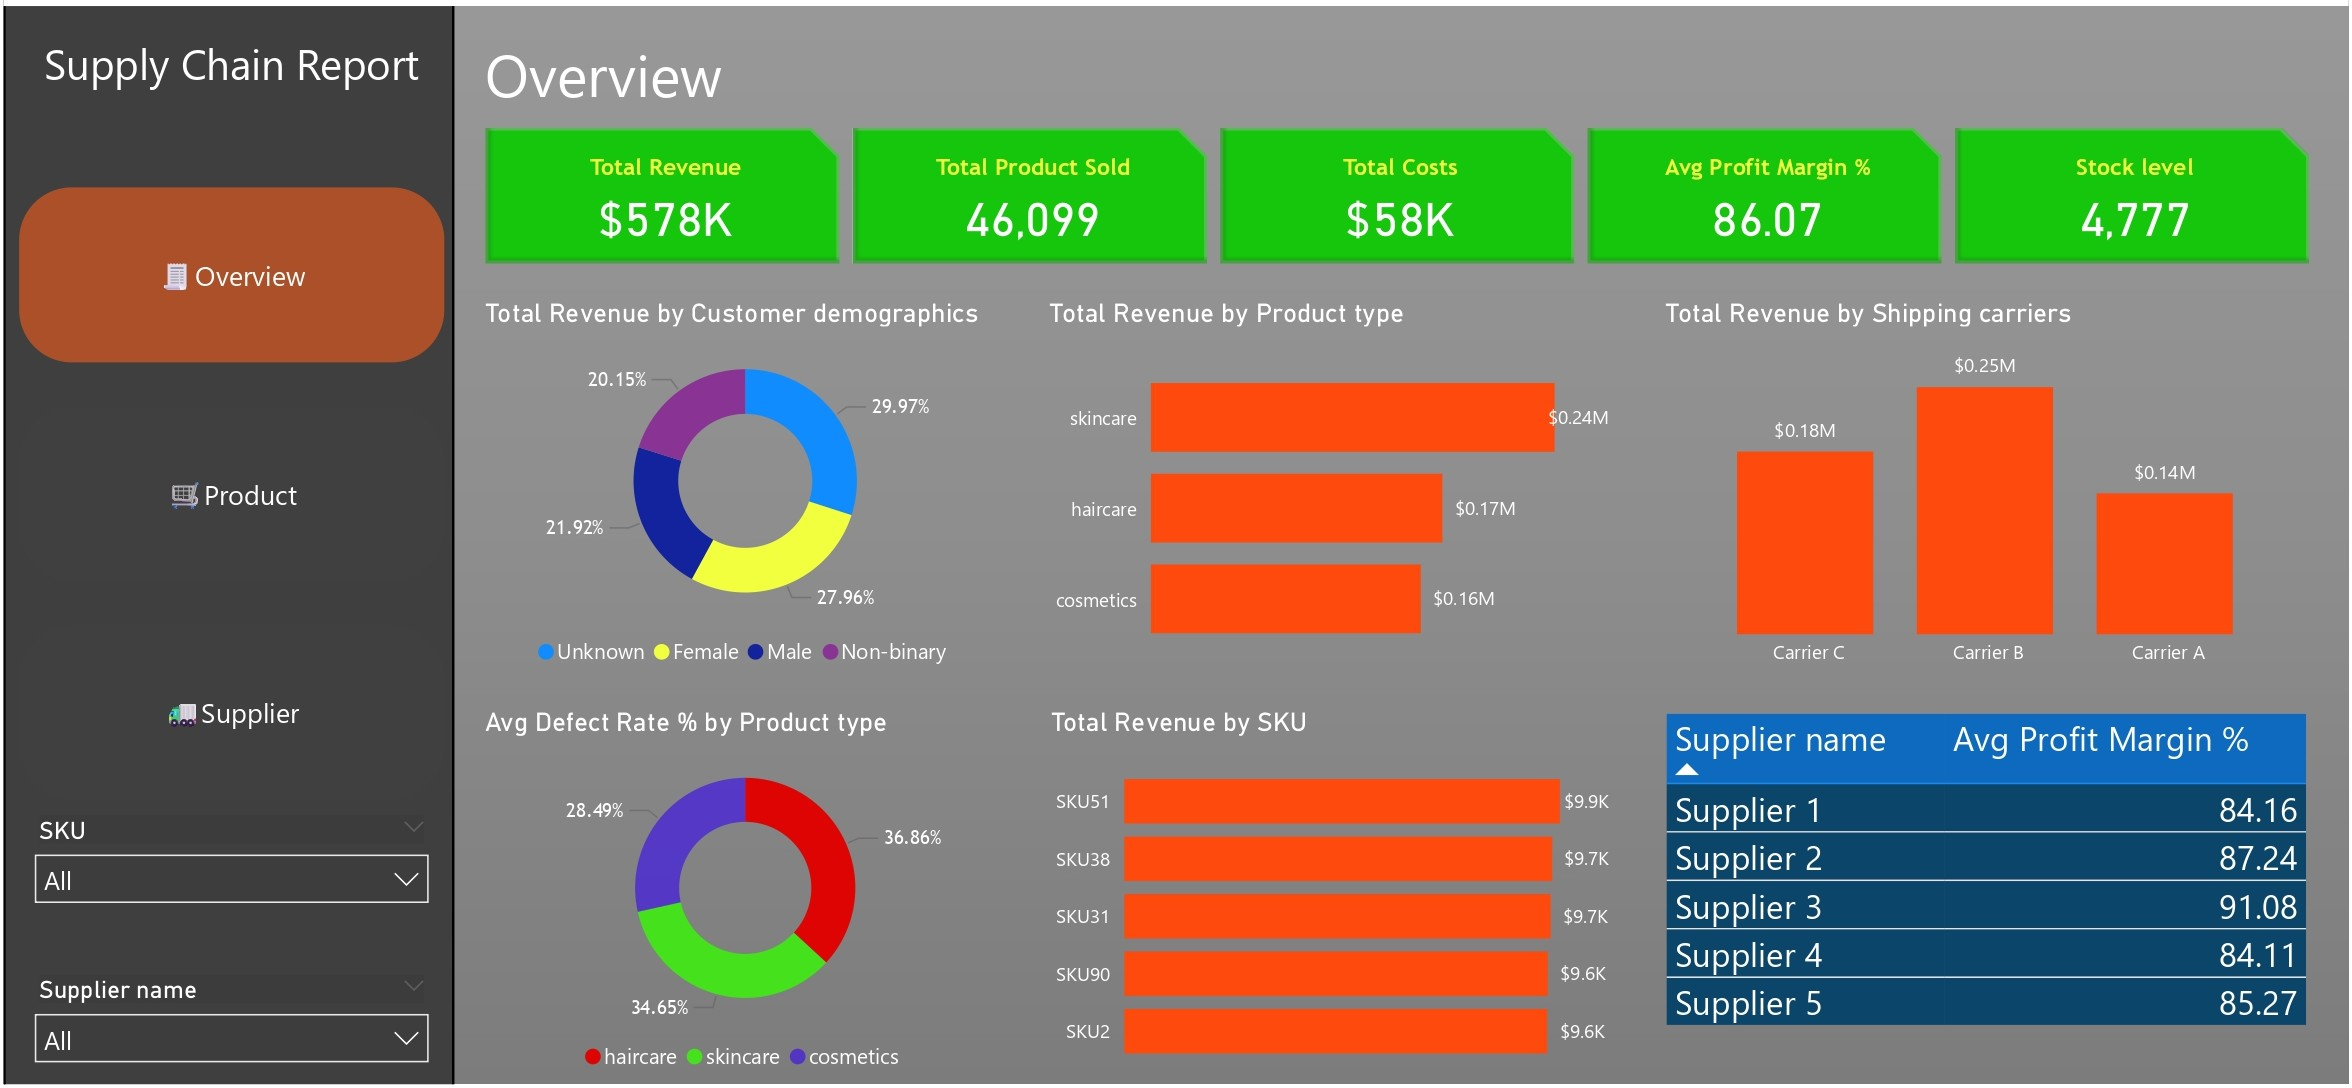

What the dashboard file says about the page in this screenshot:
{"tool":"powerbi","page":{"name":"🧾Overview","canvas":[1500,700],"ordinal":0},"visuals":[{"type":"cardVisual","fields":{"Data":["_Measures.Total Revenue","_Measures.Total Product Sold","_Measures.Total Costs","_Measures.Avg Profit Margin %","_Measures.Stock level"]},"box":[303.3,72.5,1178.6,97.3],"z":0},{"type":"pageNavigator","box":[10.1,115.6,271.4,393.4],"z":0,"group":"g1"},{"type":"donutChart","fields":{"Y":["_Measures.Total Revenue"],"Category":["supply_chain_data (2).Customer demographics"]},"box":[303.3,186.3,342.9,245.6],"z":1000},{"type":"slicer","fields":{"Values":["supply_chain_data (2).SKU"]},"box":[10,512.6,271.7,75.9],"z":1000,"group":"g1"},{"type":"donutChart","fields":{"Y":["_Measures.Avg Defect Rate %"],"Category":["supply_chain_data (2).Product type","supply_chain_data (2).Customer demographics"]},"box":[303.1,447.6,343.2,243.1],"z":2000},{"type":"slicer","fields":{"Values":["supply_chain_data (2).Supplier name"]},"box":[10,614.8,271.7,75.9],"z":2000,"group":"g1"},{"type":"textbox","box":[10,12.9,271.7,59.4],"z":3000,"group":"g1"},{"type":"clusteredBarChart","fields":{"Y":["_Measures.Total Revenue"],"Category":["supply_chain_data (2).Product type"]},"box":[664.3,186.3,367.6,245.6],"z":3000},{"type":"clusteredBarChart","fields":{"Y":["_Measures.Total Revenue"],"Category":["supply_chain_data (2).SKU"]},"box":[664.9,447.6,367.5,243.1],"z":4000},{"type":"columnChart","fields":{"Y":["_Measures.Total Revenue"],"Category":["supply_chain_data (2).Shipping carriers"]},"box":[1058.2,186.3,423.6,245.6],"z":5000},{"type":"tableEx","fields":{"Values":["supply_chain_data (2).Supplier name","_Measures.Avg Profit Margin %"]},"box":[1058.2,447.6,423.3,230.2],"z":6000},{"type":"textbox","box":[303.3,13.2,242.3,59.3],"z":7000},{"type":"group","id":"g1","title":"Group 1","box":[10,12.9,271.7,677.8],"z":7005}]}

Visuals, with their boxes on the page's 1500x700 design canvas (x1, y1, x2, y2). These are canvas units, not pixel positions in the 2352x1088 screenshot, which may show the page scaled, cropped or inside an application window:
cardVisual - _Measures.Total Revenue x _Measures.Total Product Sold: <bbox>303, 72, 1482, 170</bbox>
pageNavigator: <bbox>10, 116, 282, 509</bbox>
donutChart - _Measures.Total Revenue x supply_chain_data (2).Customer demographics: <bbox>303, 186, 646, 432</bbox>
slicer - supply_chain_data (2).SKU: <bbox>10, 513, 282, 588</bbox>
donutChart - _Measures.Avg Defect Rate % x supply_chain_data (2).Product type: <bbox>303, 448, 646, 691</bbox>
slicer - supply_chain_data (2).Supplier name: <bbox>10, 615, 282, 691</bbox>
textbox: <bbox>10, 13, 282, 72</bbox>
clusteredBarChart - _Measures.Total Revenue x supply_chain_data (2).Product type: <bbox>664, 186, 1032, 432</bbox>
clusteredBarChart - _Measures.Total Revenue x supply_chain_data (2).SKU: <bbox>665, 448, 1032, 691</bbox>
columnChart - _Measures.Total Revenue x supply_chain_data (2).Shipping carriers: <bbox>1058, 186, 1482, 432</bbox>
tableEx - supply_chain_data (2).Supplier name x _Measures.Avg Profit Margin %: <bbox>1058, 448, 1482, 678</bbox>
textbox: <bbox>303, 13, 546, 72</bbox>
"Group 1" group: <bbox>10, 13, 282, 691</bbox>
